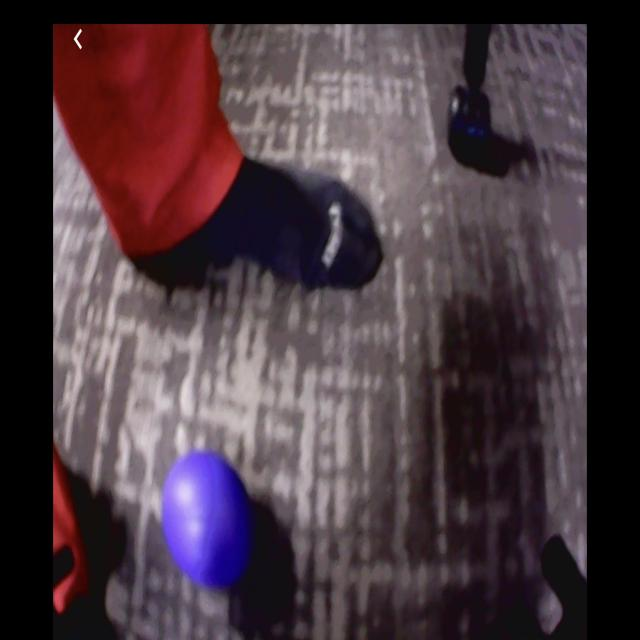ball: (165, 455, 255, 584)
